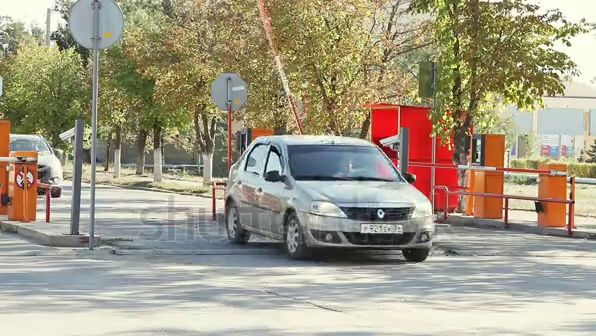licenseplate: (363, 222, 406, 233)
